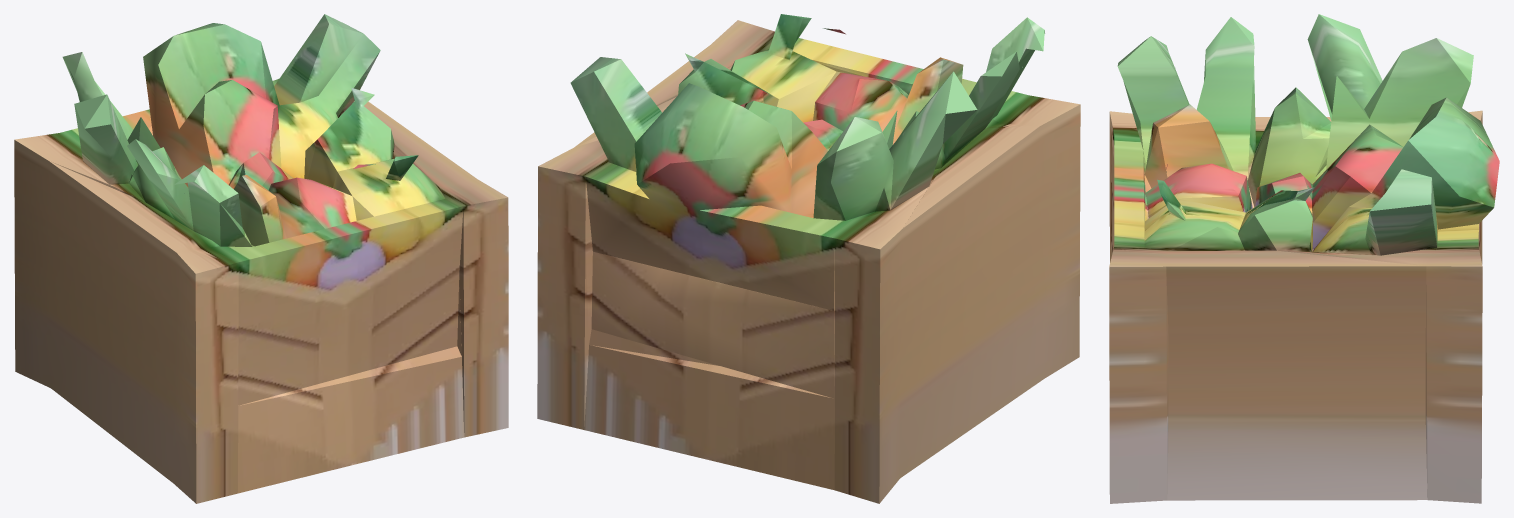
3 renders of one model, left to right at view 1: azimuth 30°, elevation 25°; view 2: azimuth 150°, elevation 25°; view 3: azimuth 270°, elevation 25°, orthographic. The views are drawn at different scales.
Parts seen in each view (by area): view 1: Decor_vegetable_crate; view 2: Decor_vegetable_crate; view 3: Decor_vegetable_crate.
Part boxes in pixels (x1,y1,x2,y2): Decor_vegetable_crate: (14, 14, 508, 503); Decor_vegetable_crate: (537, 14, 1080, 503); Decor_vegetable_crate: (1109, 14, 1499, 503).
Bounding box in the file's own units: 0.4494 × 0.444 × 0.461.
1 material, 1 textured.
